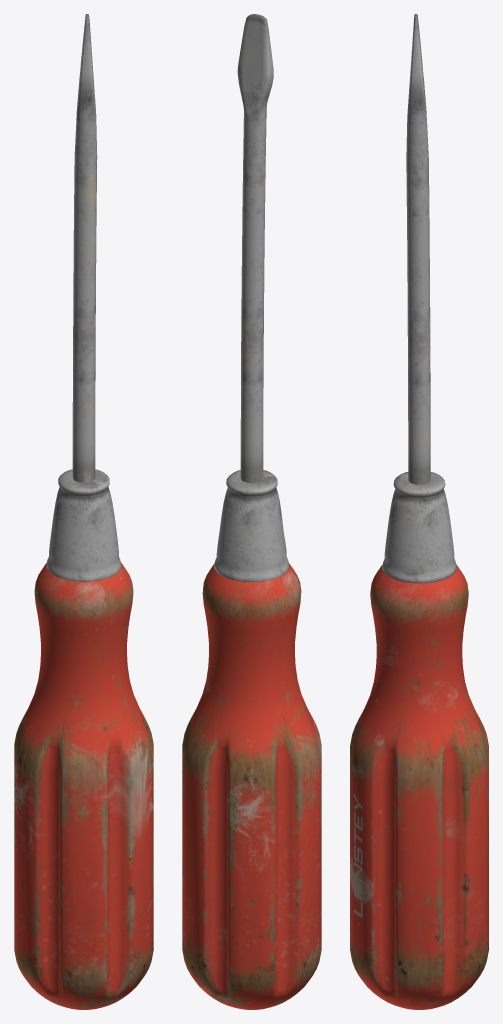
The model's file is screwdriver.glb.
3 renders of one model, left to right at view 1: azimuth 90°, elevation 25°; view 2: azimuth 150°, elevation 25°; view 3: azimuth 270°, elevation 25°, orthographic.
Visible parts, largest first — view 1: screwdriver; view 2: screwdriver; view 3: screwdriver.
Part boxes in pixels (x1=…): screwdriver: x1=14, y1=14, x2=153, y2=1009; screwdriver: x1=182, y1=14, x2=321, y2=1009; screwdriver: x1=350, y1=14, x2=488, y2=1009.
Size of the model in its own units: 0.0271 by 0.209 by 0.0267.
Materials: 1 (1 with a texture image).
